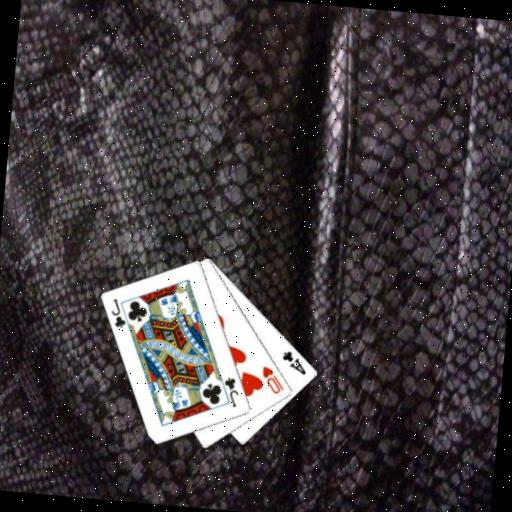10H: (258, 363, 288, 397)
AC: (278, 347, 310, 377)
JC: (219, 374, 242, 410), (107, 295, 130, 331)
